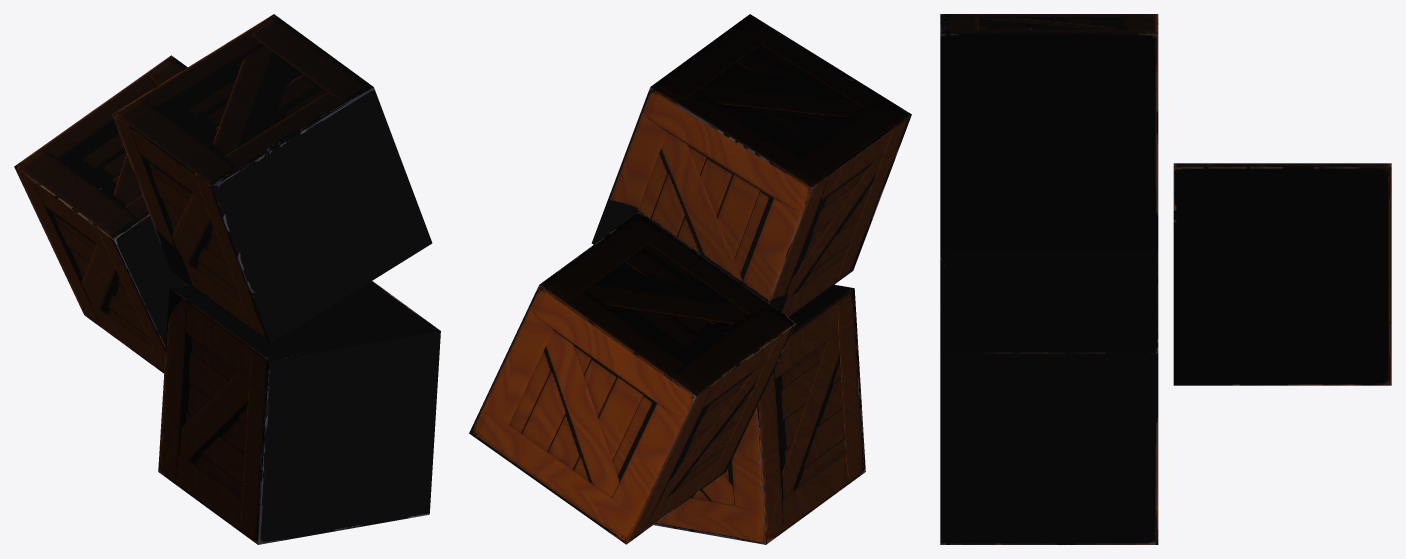
File: ex_Crates.obj
The picture shows the model from 3 angles, left to right: view 1: azimuth 30°, elevation 25°; view 2: azimuth 150°, elevation 25°; view 3: azimuth 270°, elevation 25°; orthographic projection. The views are drawn at different scales.
Visible parts, largest first — view 1: CrateLoRes_Cube.019; view 2: CrateLoRes_Cube.019; view 3: CrateLoRes_Cube.019.
Part boxes in pixels (<box>): CrateLoRes_Cube.019: <box>14,14,440,544</box>; CrateLoRes_Cube.019: <box>469,14,911,544</box>; CrateLoRes_Cube.019: <box>940,14,1391,544</box>.
Size of the model in its own units: 49.82 by 88.91 by 75.48.
